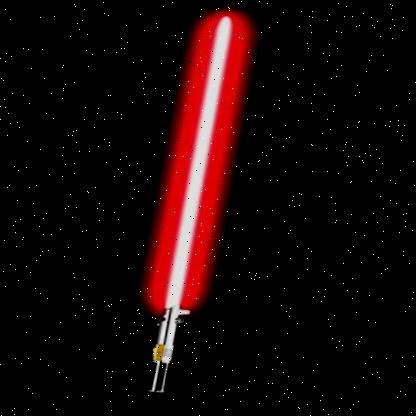sith_lightsaber: (128, 4, 257, 403)
